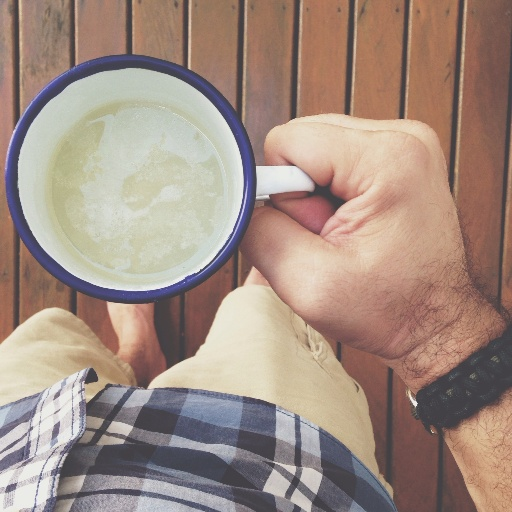hand: (258, 102, 495, 390)
